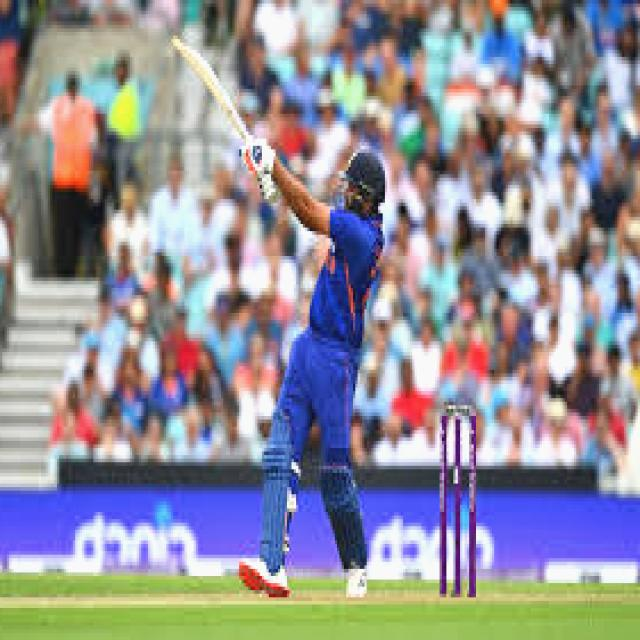toe: (168, 31, 195, 58)
